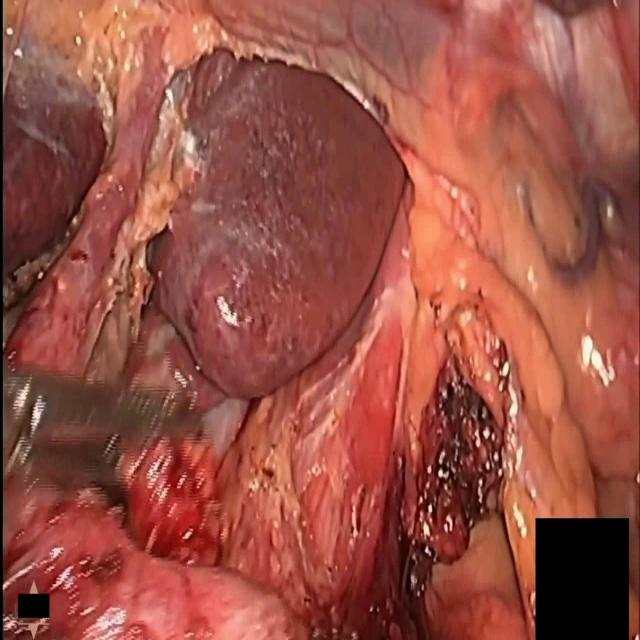surgical-area: (1, 1, 640, 639)
